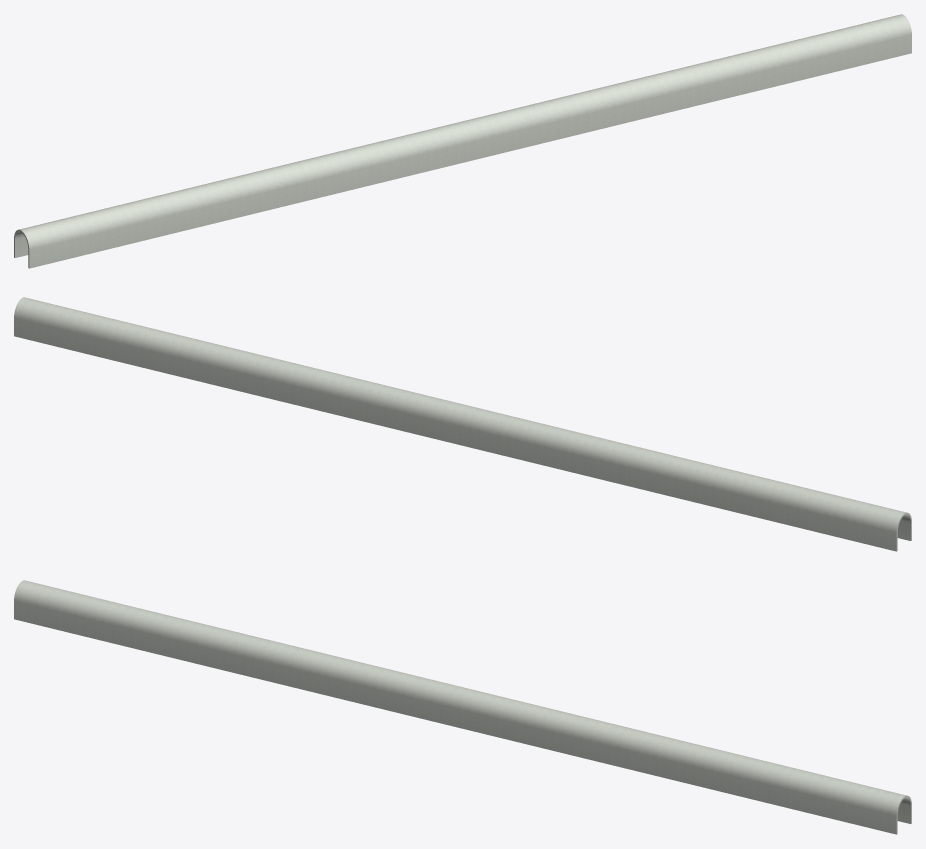
The model's file is canalina.glb.
3 views of the same model, one above another, from view 1: azimuth 30°, elevation 25°; view 2: azimuth 150°, elevation 25°; view 3: azimuth 330°, elevation 25° (orthographic).
Visible parts, largest first — view 1: Canalina; view 2: Canalina; view 3: Canalina.
Boxes of the visible parts, <box> form: Canalina: <box>14,14,911,268</box>; Canalina: <box>14,297,911,551</box>; Canalina: <box>14,580,911,834</box>.
Size of the model in its own units: 2 by 0.07 by 0.06.
Materials: 1 (1 with a texture image).
